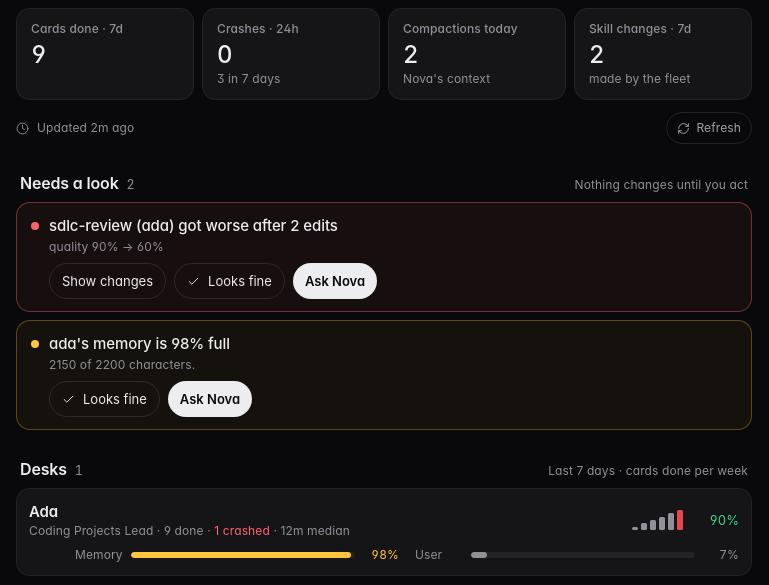
Test: Ask Nova sends a review-first request, records it, and folds the flag under Looked at
Click the button "Ask Nova" below "2150 of 2200 characters." at (210, 399), box [168,381,252,417]
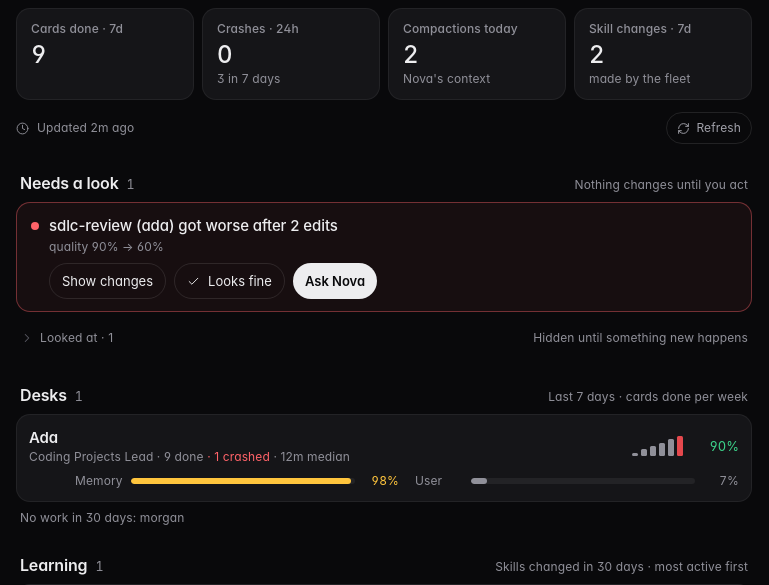
Expected: the text "ada's memory is 98% full" is gone
Expected: the button "Looked at · 1 Hidden until something new happens" is shown, [16,320,752,356]
Click the button "Show changes" at (108, 281), box [49,263,166,299]
(page scrolled)
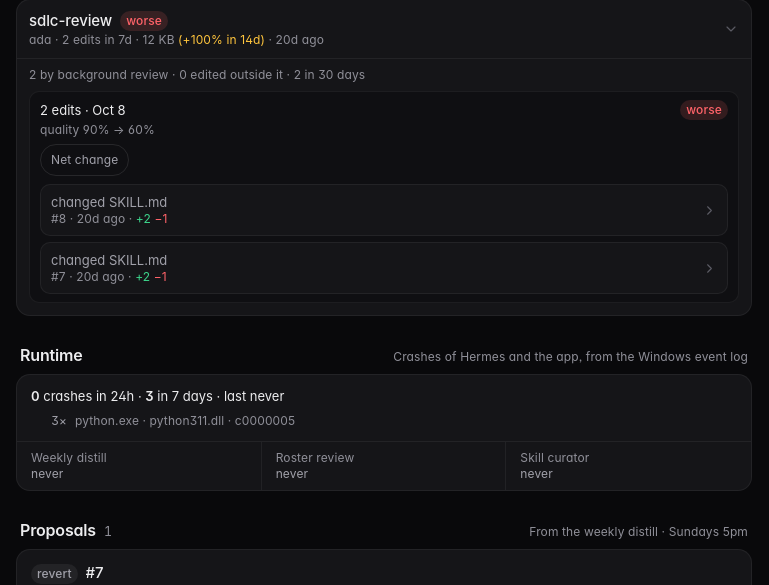
Expected: the text "2 by background review · 0 edited outside it · 2 in 30 days" is shown, [29,67,365,82]
